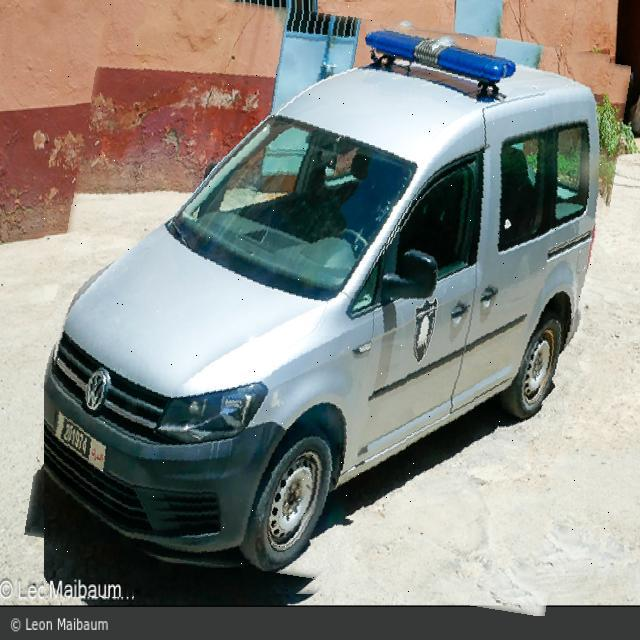gendarme car: (40, 25, 600, 574)
